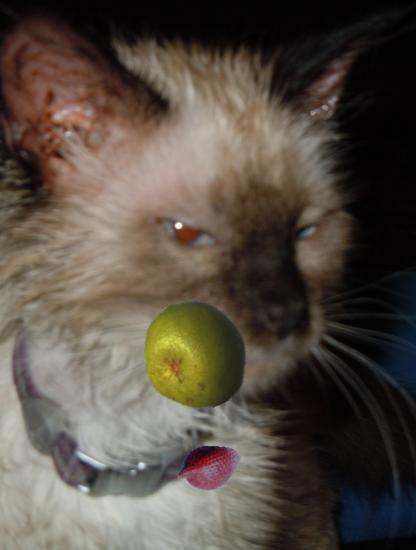Pomelo: (139, 300, 250, 411)
Salak: (177, 436, 242, 501)
